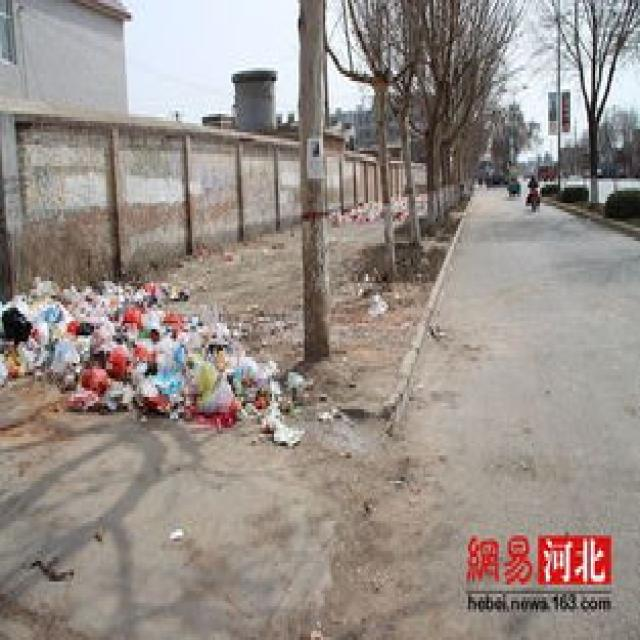garbage: (0, 271, 307, 446)
